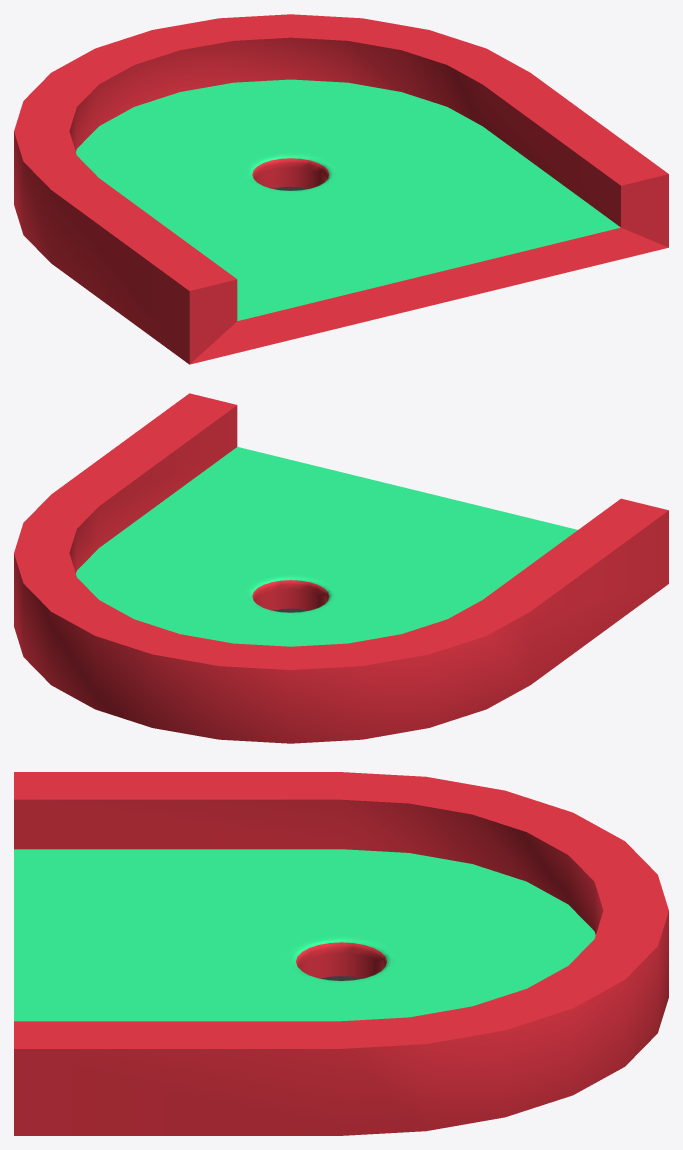
File: holeRound.fbx
The picture shows the model from 3 angles, top to bottom: view 1: azimuth 30°, elevation 25°; view 2: azimuth 150°, elevation 25°; view 3: azimuth 270°, elevation 25°; orthographic projection. The views are drawn at different scales.
Parts seen in each view (by area): view 1: holeRound; view 2: holeRound; view 3: holeRound.
Boxes of the visible parts, x1,y1,x2,y2 form: holeRound: [14, 14, 668, 364]; holeRound: [14, 393, 668, 743]; holeRound: [14, 772, 668, 1135].
Size of the model in its own units: 0.9999 by 0.9999 by 0.1467.
